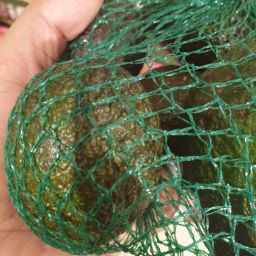Avocado: (14, 60, 166, 254)
